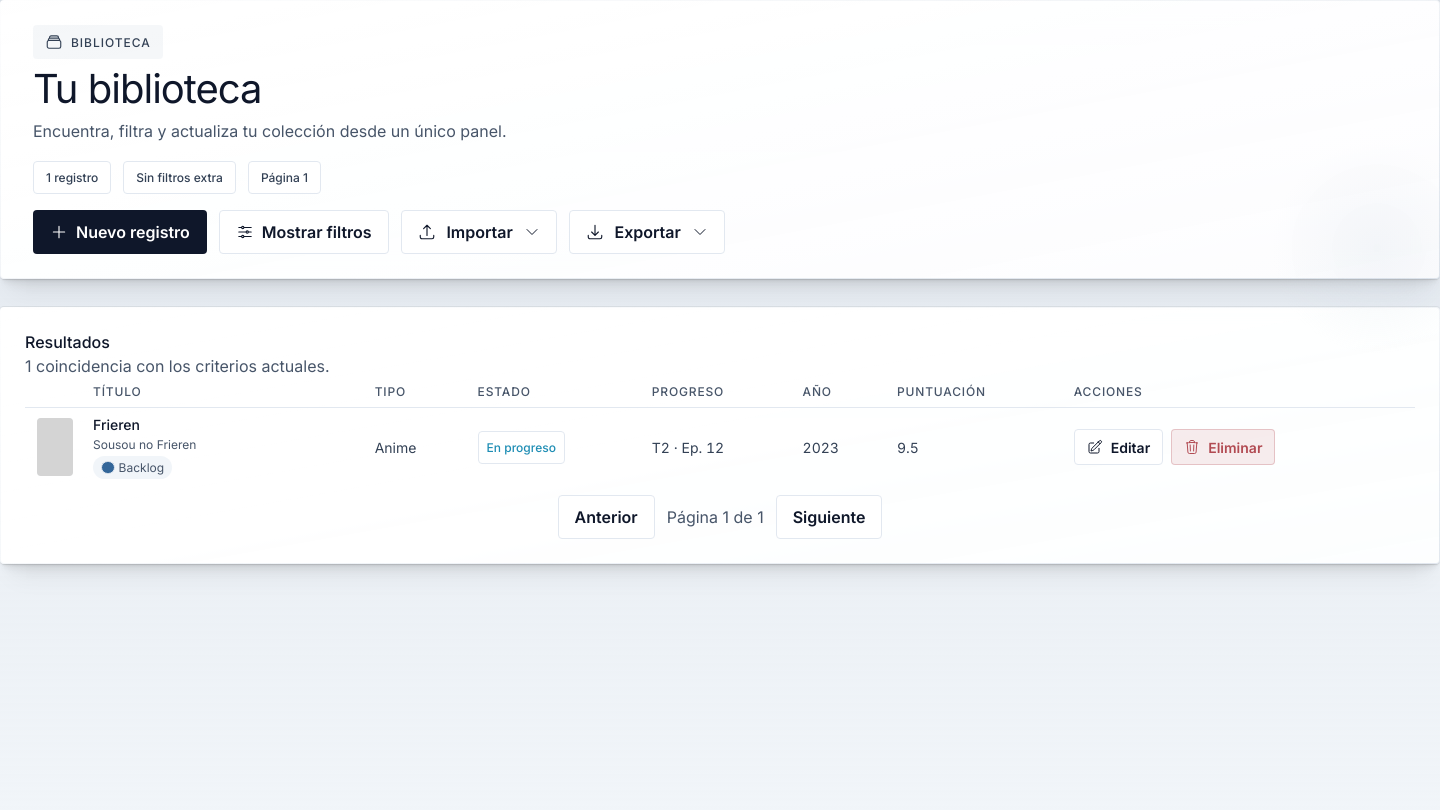
Test: LibraryView › confirms and removes an item from the library through the dialog
The image size is (1440, 810).
Click the button "Eliminar" at x=1223, y=447, box [1171,429,1276,465]
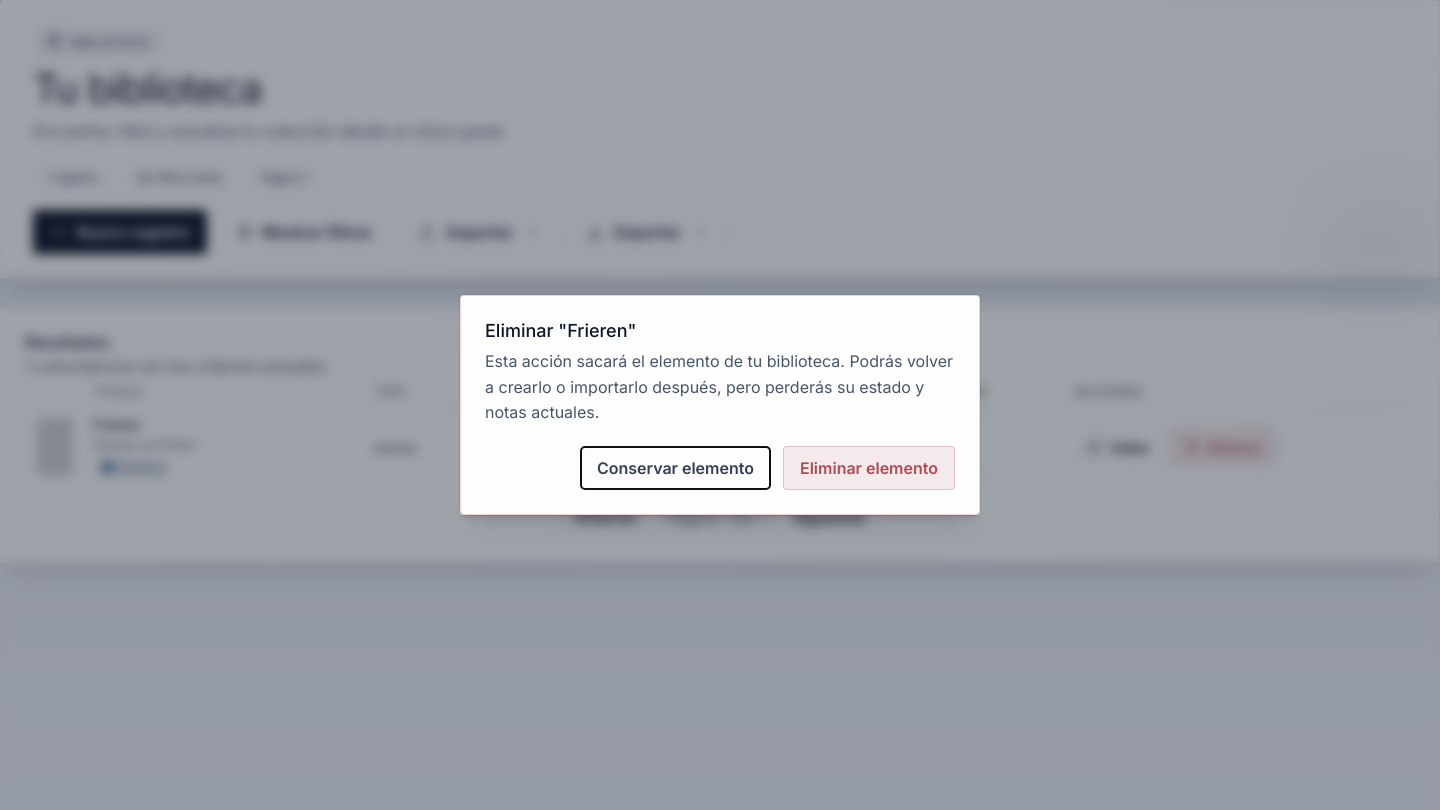
Result: the dialog "Eliminar \"Frieren\"" is shown at [460,295,980,515]
Click the button "Eliminar elemento" at x=869, y=468, box [783,446,955,490]
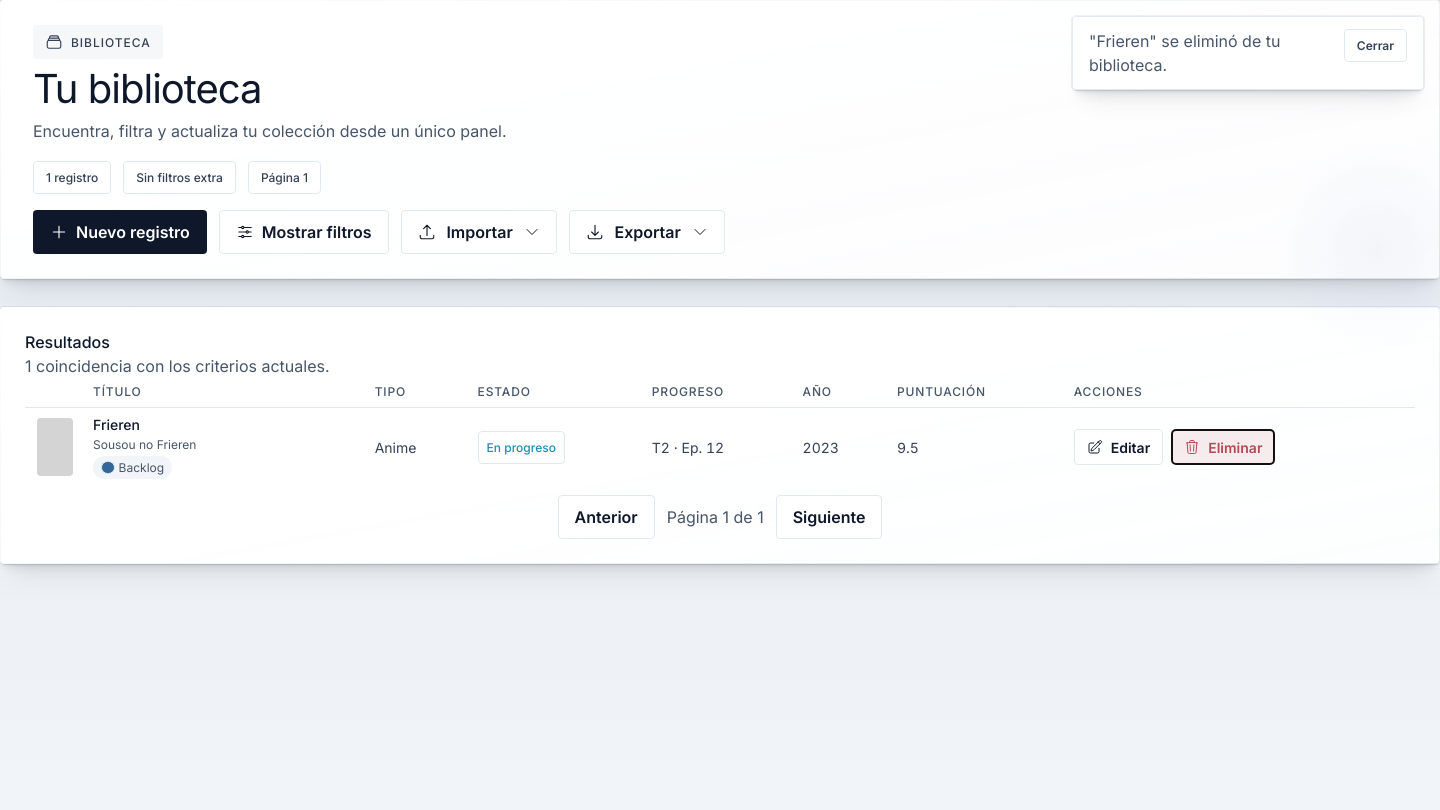
Result: the text "\"Frieren\" se eliminó de tu biblioteca." is shown at [1089,31,1280,75]
